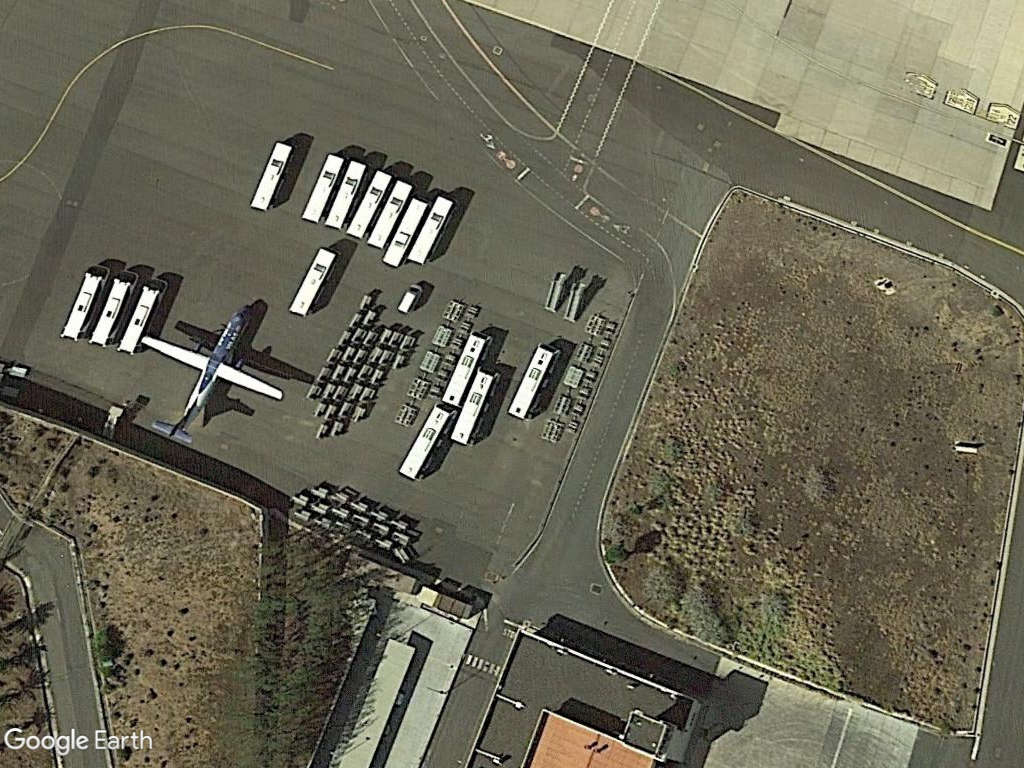bus: (440, 356, 512, 452), (356, 166, 424, 256), (399, 181, 464, 271), (279, 236, 346, 323), (374, 186, 437, 275), (391, 401, 455, 484), (505, 336, 565, 424), (430, 328, 493, 409), (114, 274, 172, 361), (345, 154, 397, 248), (80, 267, 138, 351), (245, 133, 302, 216), (52, 263, 108, 344), (322, 150, 371, 239), (299, 146, 349, 225)
propeller: (133, 297, 291, 447)
stairtruck: (535, 260, 568, 316), (562, 273, 590, 324)
van: (394, 279, 428, 321)
